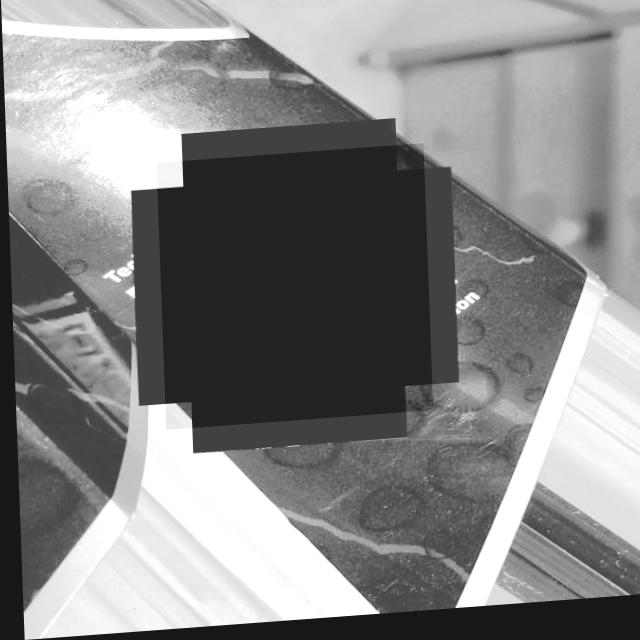qr_code: (154, 150, 429, 432)
